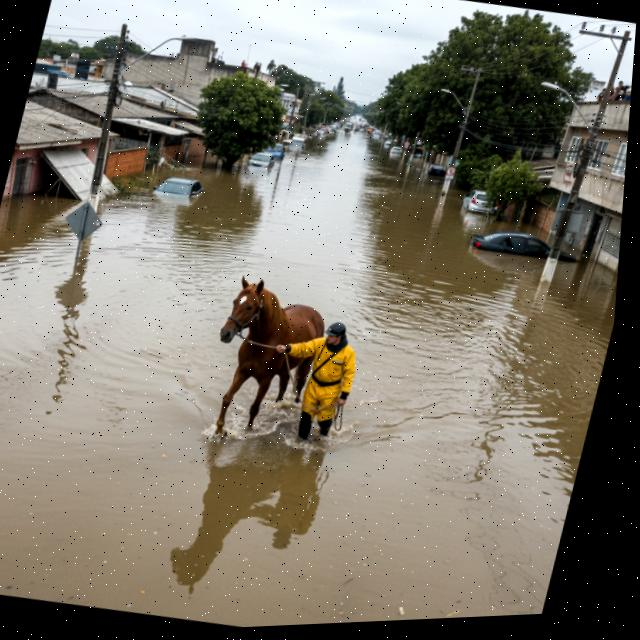horse: (180, 263, 338, 460)
rescuer: (257, 301, 382, 462)
